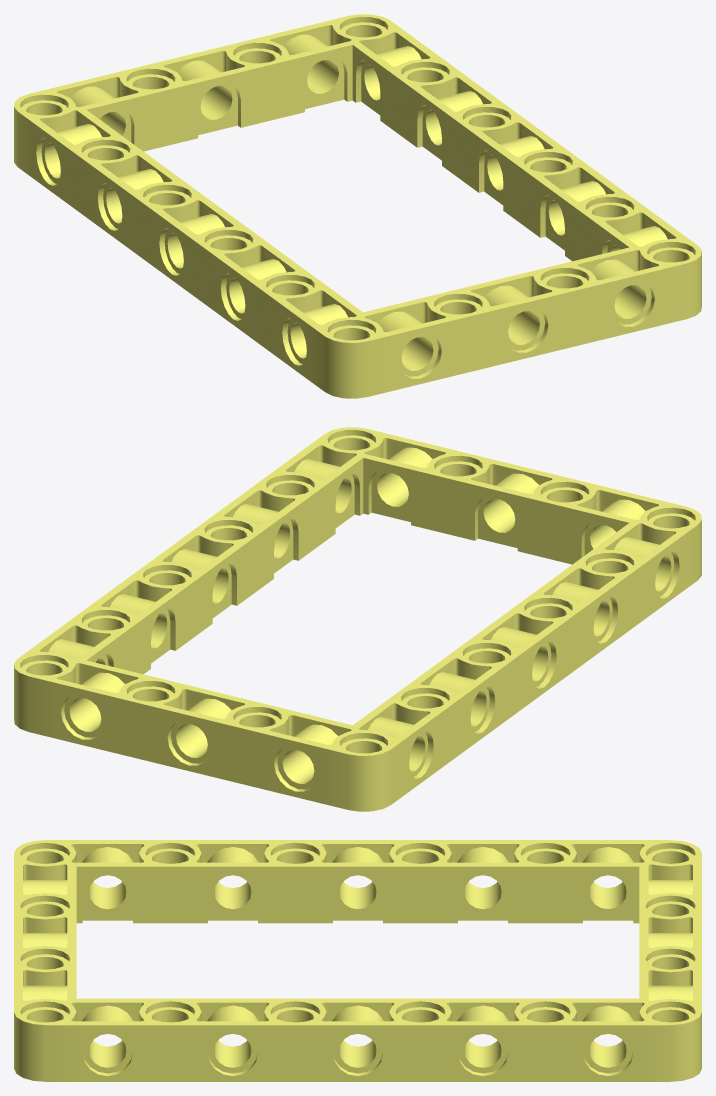
3 renders of one model, top to bottom at view 1: azimuth 30°, elevation 25°; view 2: azimuth 150°, elevation 25°; view 3: azimuth 270°, elevation 25°, orthographic.
Visible parts, largest first — view 1: 39794.dat; view 2: 39794.dat; view 3: 39794.dat.
Boxes of the visible parts, left/top/right/bottom form: 39794.dat: left=14, top=14, right=701, bottom=398; 39794.dat: left=14, top=427, right=701, bottom=811; 39794.dat: left=14, top=840, right=701, bottom=1081.
Bounding box in the file's own units: 0.056 × 0.008 × 0.088.
